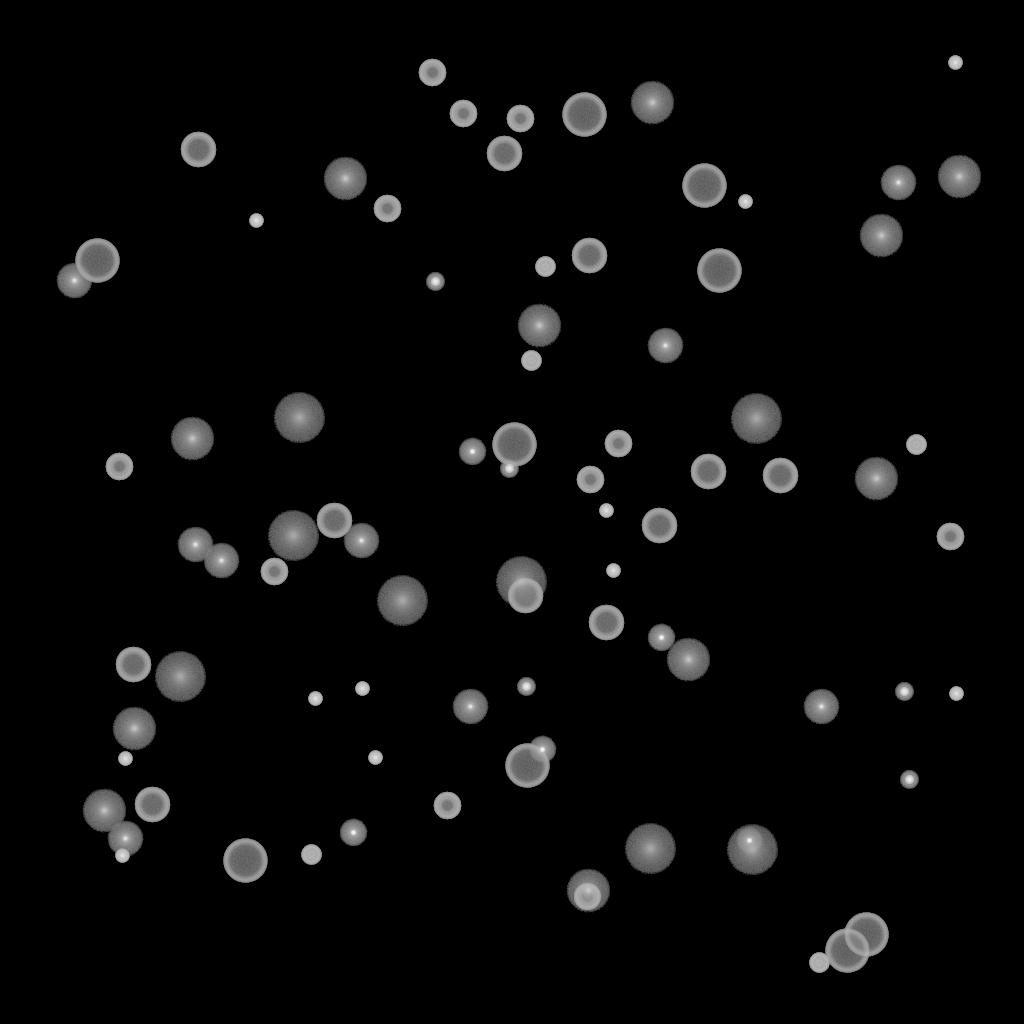depth:-10: (339, 819, 367, 847), (647, 624, 675, 652), (458, 438, 486, 466), (735, 827, 763, 855), (528, 736, 556, 764)
depth:-20: (895, 683, 913, 701), (517, 678, 535, 696), (426, 273, 444, 291), (900, 771, 918, 789), (500, 460, 518, 478)
depth:-30: (738, 195, 752, 209), (599, 504, 613, 518), (949, 687, 963, 701), (118, 752, 132, 766), (249, 214, 263, 228), (308, 692, 322, 706), (115, 849, 129, 863), (355, 682, 369, 696), (606, 564, 620, 578), (948, 56, 962, 70), (368, 751, 382, 765)
depth:-40: (906, 435, 926, 455), (521, 351, 541, 371), (535, 257, 555, 277), (301, 845, 321, 865), (809, 953, 829, 973)
depth:-50: (576, 466, 604, 494), (449, 100, 477, 128), (105, 453, 133, 481), (373, 195, 401, 223), (418, 59, 446, 87), (936, 523, 964, 551), (506, 105, 534, 133), (433, 792, 461, 820), (604, 430, 632, 458), (573, 883, 601, 911), (260, 558, 288, 586)
depth:-60: (316, 503, 352, 539), (641, 508, 677, 544), (690, 454, 726, 490), (486, 136, 522, 172), (134, 787, 170, 823), (571, 238, 607, 274), (762, 458, 798, 494), (588, 605, 624, 641), (180, 132, 216, 168), (507, 578, 543, 614), (115, 647, 151, 683)
depth:-70: (825, 929, 869, 973), (223, 839, 267, 883), (844, 913, 888, 957), (492, 423, 536, 467), (682, 164, 726, 208), (697, 249, 741, 293), (75, 239, 119, 283), (505, 744, 549, 788), (562, 93, 606, 137)
depth:0: (647, 328, 683, 364), (203, 543, 239, 579), (452, 689, 488, 725), (177, 527, 213, 563), (803, 689, 839, 725), (107, 821, 143, 857), (880, 165, 916, 201), (56, 263, 92, 299), (343, 523, 379, 559)
depth:10: (666, 638, 710, 682), (854, 457, 898, 501), (630, 81, 674, 125), (112, 707, 156, 751), (323, 157, 367, 201), (566, 869, 610, 913), (937, 155, 981, 199), (859, 214, 903, 258), (170, 417, 214, 461), (517, 304, 561, 348), (82, 789, 126, 833)
depth:20: (495, 557, 547, 607), (730, 394, 782, 444), (376, 576, 428, 626), (273, 393, 325, 443), (267, 511, 319, 561), (624, 824, 676, 874), (726, 825, 778, 875), (154, 652, 206, 702)
